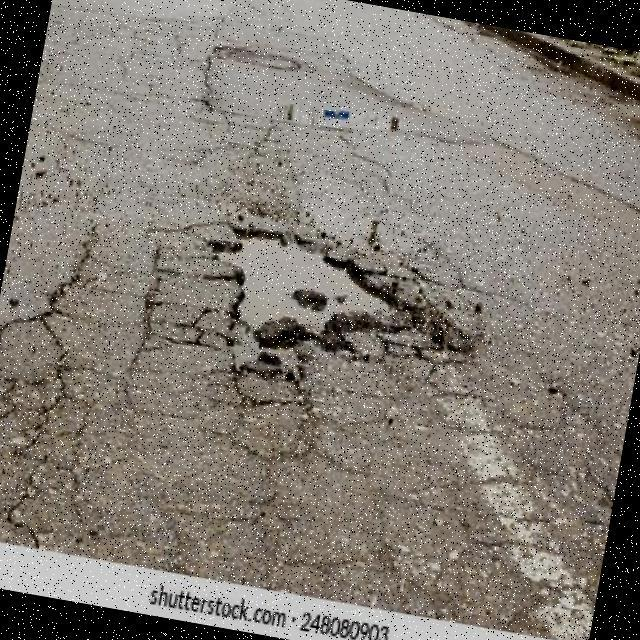Pothole: (232, 243, 460, 379)
